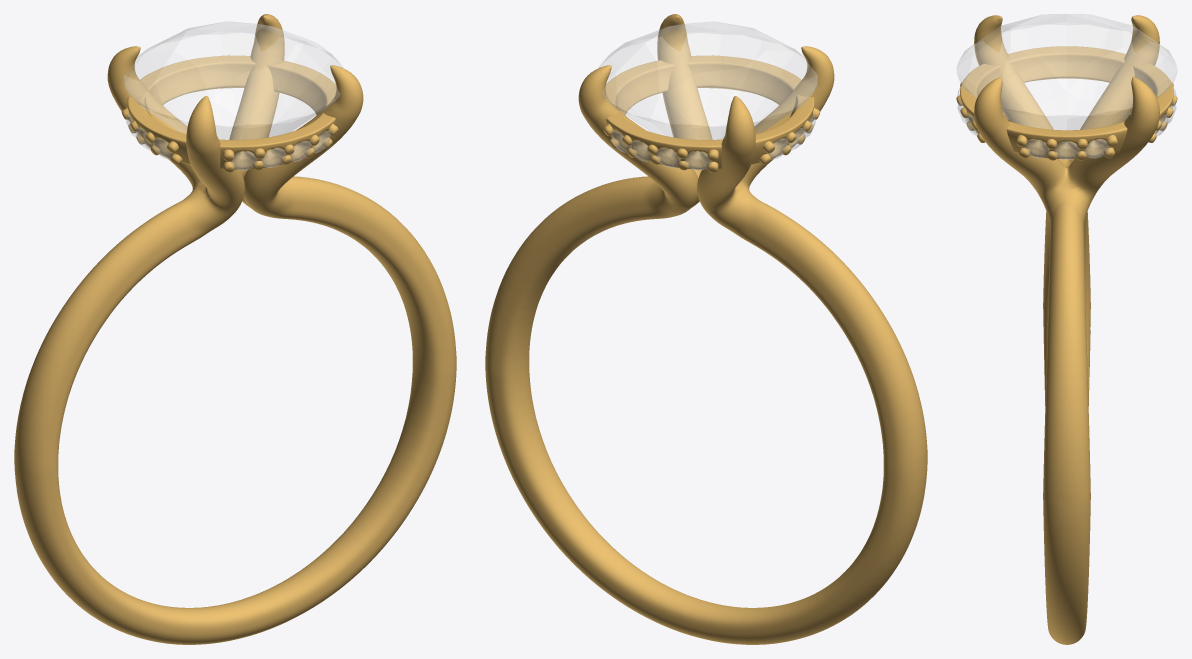
File: the-lumina.glb
3 renders of one model, left to right at view 1: azimuth 30°, elevation 25°; view 2: azimuth 150°, elevation 25°; view 3: azimuth 270°, elevation 25°, orthographic.
Parts seen in each view (by area): view 1: Shank_part_1.001, Main_Brilliant_1,0ct, HH_part_1; view 2: Shank_part_1.001, Main_Brilliant_1,0ct, HH_part_1; view 3: Shank_part_1.001, Main_Brilliant_1,0ct, HH_part_1, HH_Small_Brilliant.020, HH_Small_Brilliant.027, HH_Small_Brilliant.021.
Part boxes in pixels (left/top/right/bottom): Shank_part_1.001: left=14, top=14, right=456, bottom=644; Main_Brilliant_1,0ct: left=124, top=21, right=342, bottom=139; HH_part_1: left=121, top=55, right=338, bottom=172; Shank_part_1.001: left=485, top=14, right=927, bottom=644; Main_Brilliant_1,0ct: left=599, top=21, right=817, bottom=139; HH_part_1: left=603, top=55, right=820, bottom=172; Shank_part_1.001: left=974, top=15, right=1159, bottom=644; Main_Brilliant_1,0ct: left=957, top=14, right=1176, bottom=129; HH_part_1: left=956, top=46, right=1177, bottom=160; HH_Small_Brilliant.020: left=1054, top=141, right=1079, bottom=159; HH_Small_Brilliant.027: left=1084, top=139, right=1109, bottom=158; HH_Small_Brilliant.021: left=1024, top=139, right=1049, bottom=158.
Bounding box in the file's own units: 2.22 × 2.88 × 0.9884.
